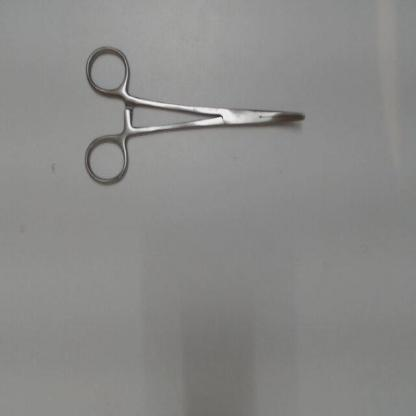Crile Artery Forceps: (81, 38, 313, 188)
